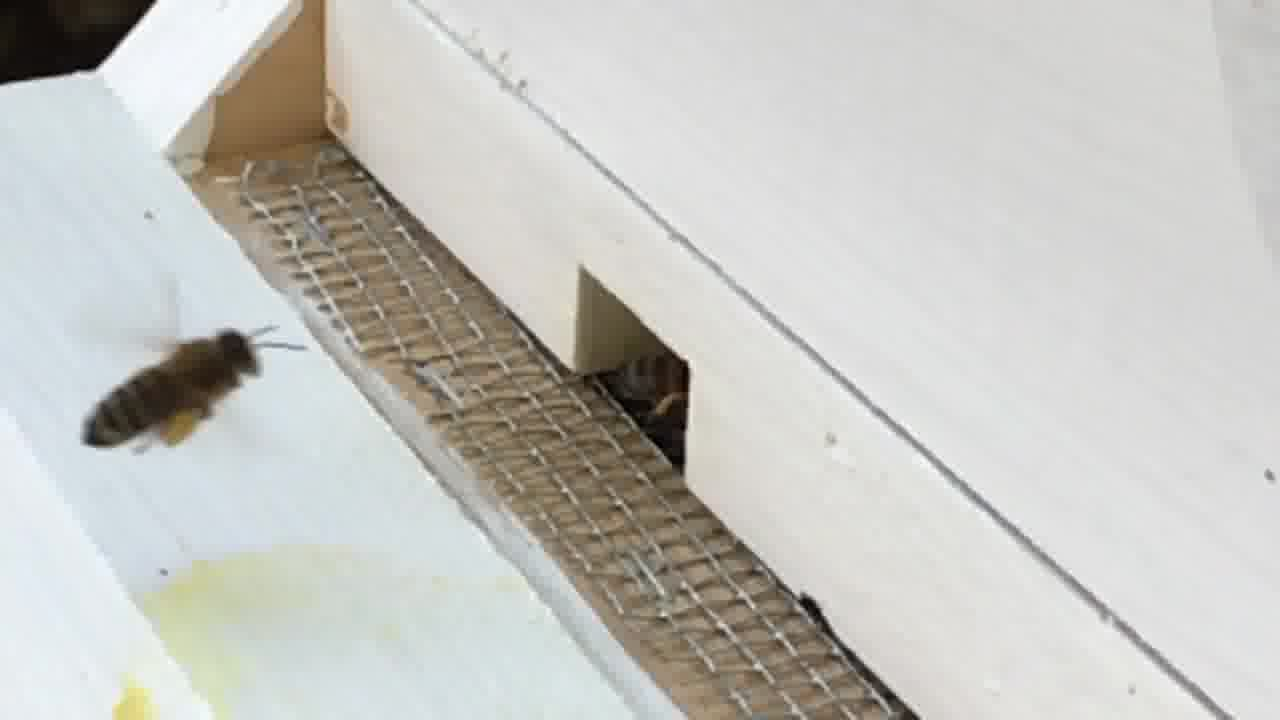pollen: (81, 326, 275, 455)
